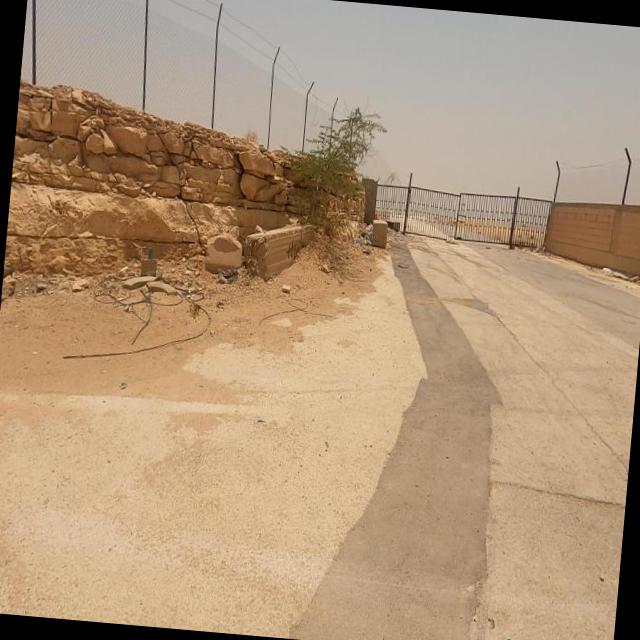debris: (45, 179, 264, 439), (594, 242, 624, 300)
